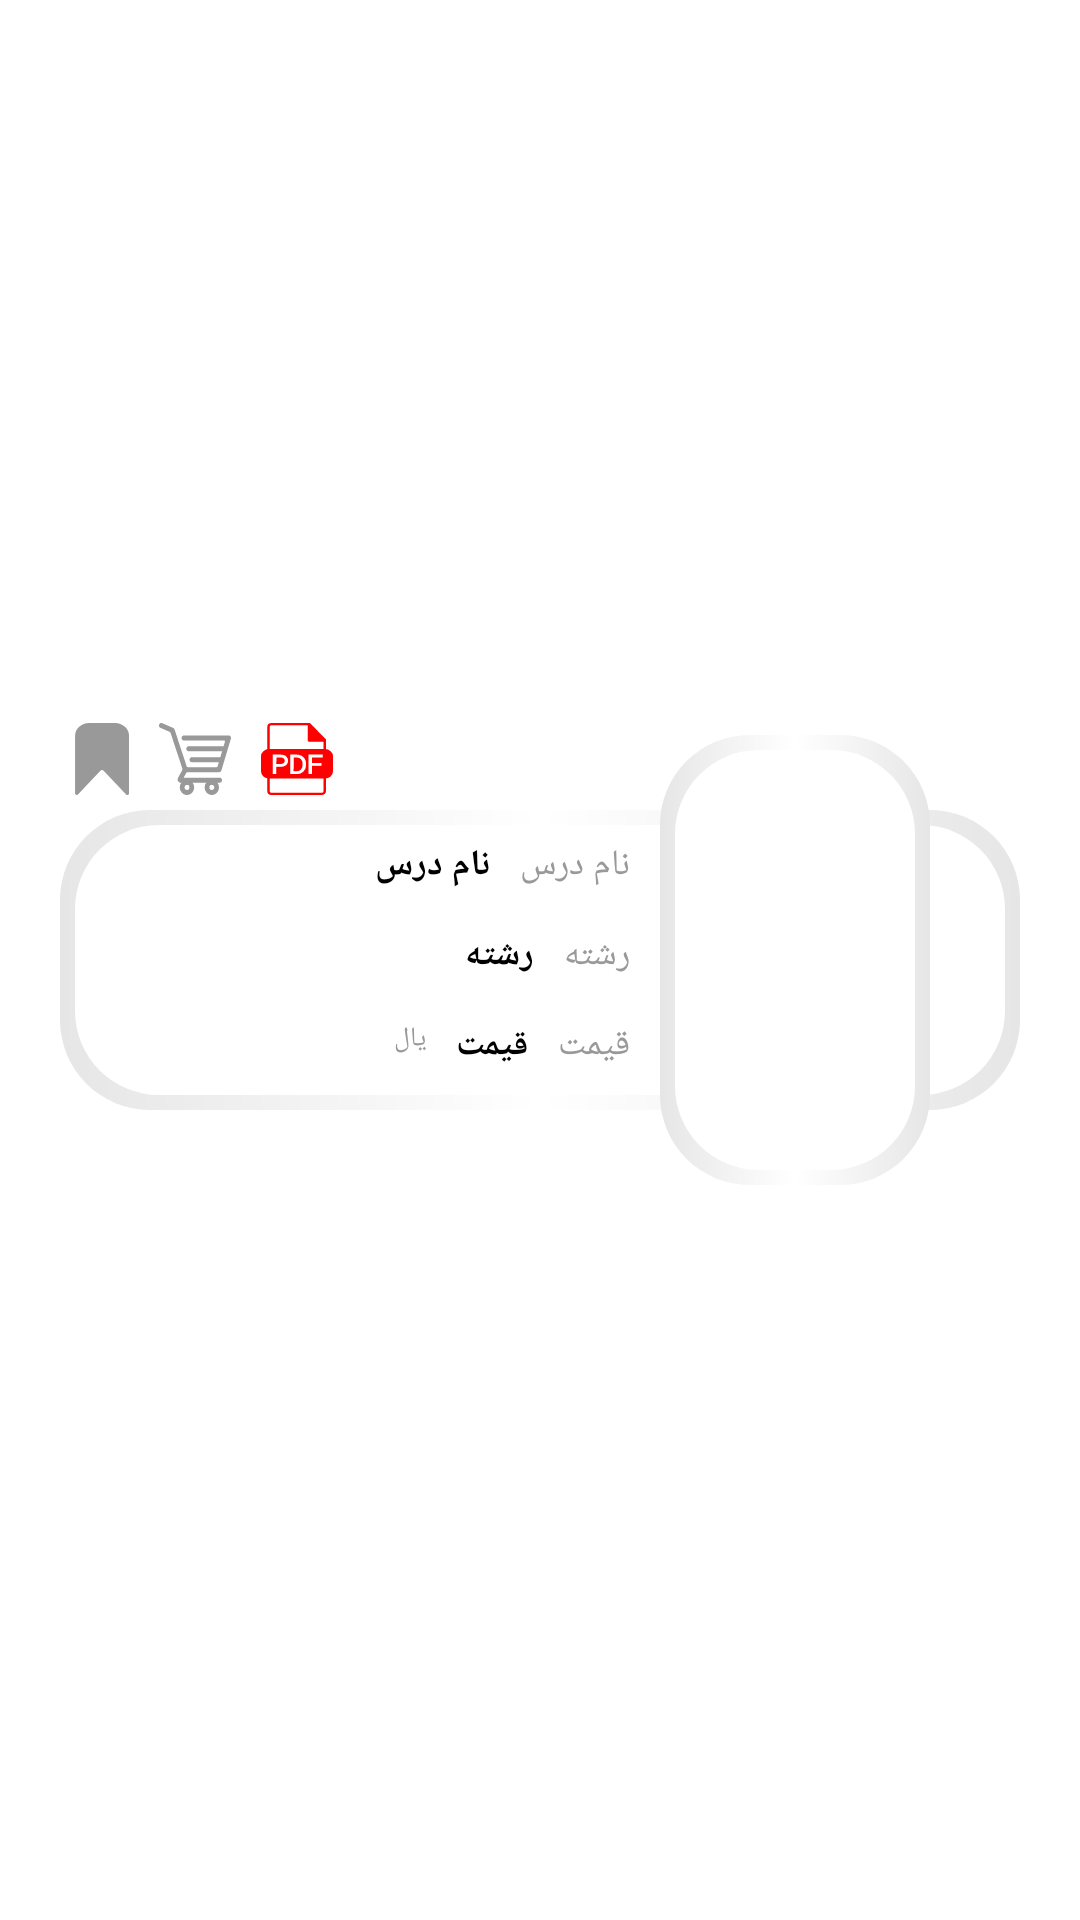

Icon click points for this 1080px×1920px phone screenshot, format [x,y]:
kharid two: [195,759]
save: [102,759]
